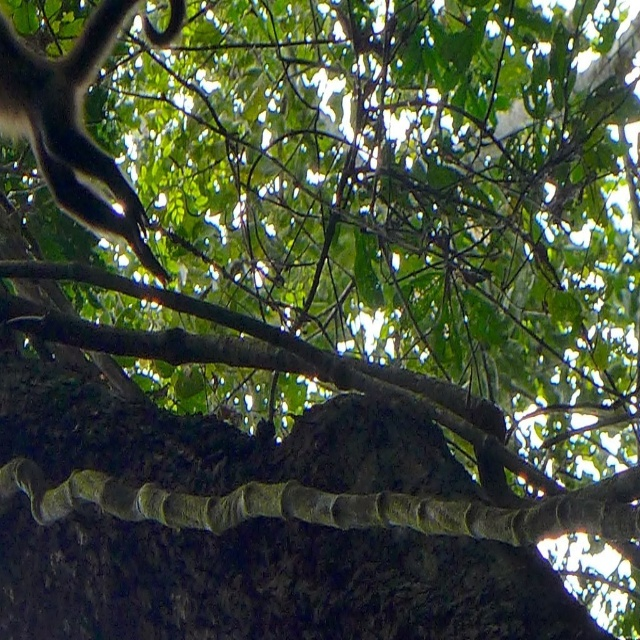Monkey: (12, 14, 166, 296)
